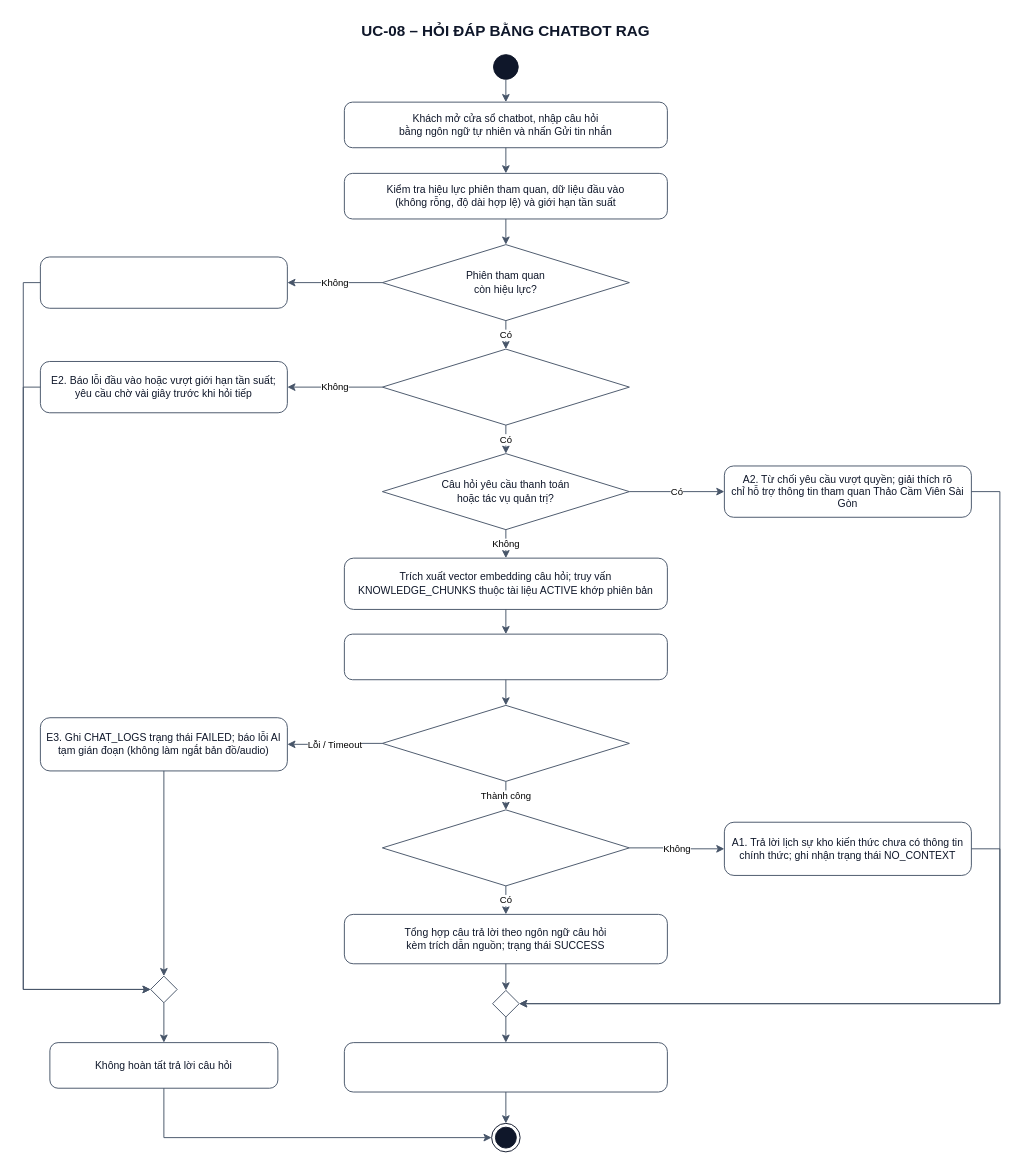
The diagram is 1024 pixels wide and 1169 high, and some of its shapes have lost their labels. Here are the shapes that lost their labels. From the top down, the centre of each, then its label:
At (x=163, y=282): "E1. Từ chối tiếp nhận câu hỏi; thông báo phiên tham quan đã hết thời hạn sử dụng".
At (x=505, y=386): "Câu hỏi hợp lệ và trong giới hạn tần suất?".
At (x=505, y=656): "Đóng gói ngữ cảnh tài liệu kèm câu hỏi gửi tới mô hình ngôn ngữ lớn (LLM)".
At (x=505, y=742): "Dịch vụ Embedding / LLM phản hồi thành công?".
At (x=505, y=847): "Ngữ cảnh truy hồi đủ căn cứ để trả lời câu hỏi?".
At (x=505, y=1067): "Hiển thị phản hồi và lưu vào bảng CHAT_LOGS (không lưu secret hoặc raw token)".
